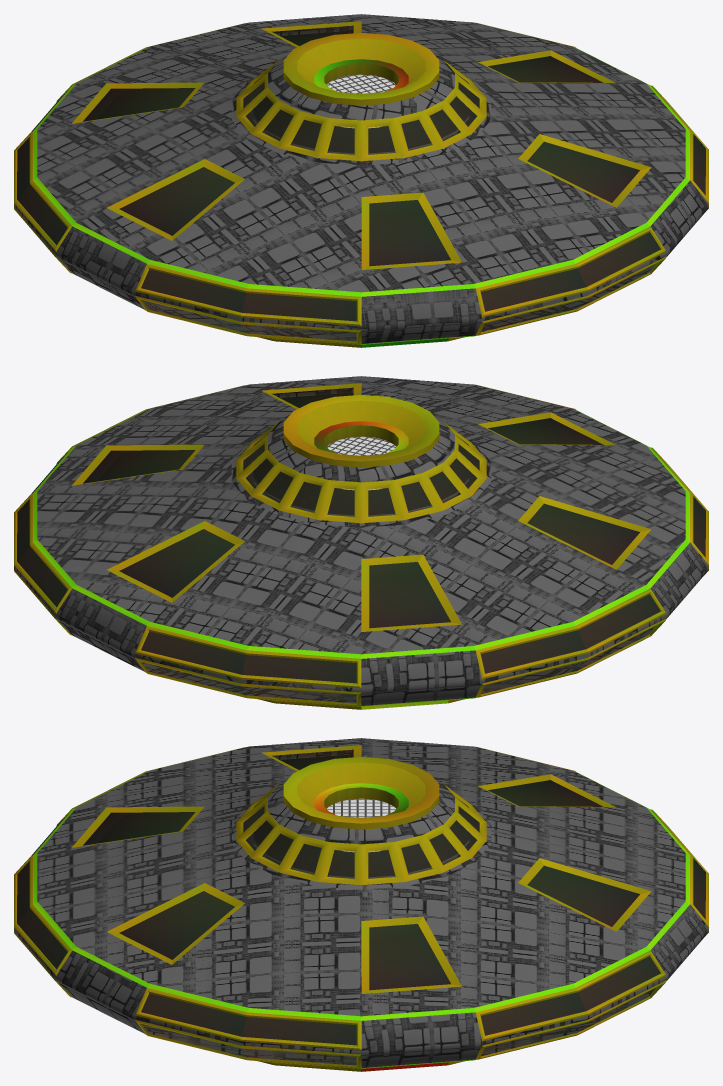
The model's file is Scifi-structure-Dish.FBX.
3 views of the same model, one above another, from view 1: azimuth 30°, elevation 25°; view 2: azimuth 150°, elevation 25°; view 3: azimuth 270°, elevation 25° (orthographic).
Parts seen in each view (by area): view 1: Scifi-structure-Dish, Inside-scifi-structure-Dish; view 2: Scifi-structure-Dish, Inside-scifi-structure-Dish; view 3: Scifi-structure-Dish, Inside-scifi-structure-Dish.
Part boxes in pixels (<box>): Scifi-structure-Dish: <box>14,14,708,347</box>; Inside-scifi-structure-Dish: <box>17,30,707,331</box>; Scifi-structure-Dish: <box>14,376,708,709</box>; Inside-scifi-structure-Dish: <box>17,392,707,693</box>; Scifi-structure-Dish: <box>14,738,708,1071</box>; Inside-scifi-structure-Dish: <box>17,754,707,1056</box>.
Size of the model in its own units: 73.96 by 72.89 by 23.35.
